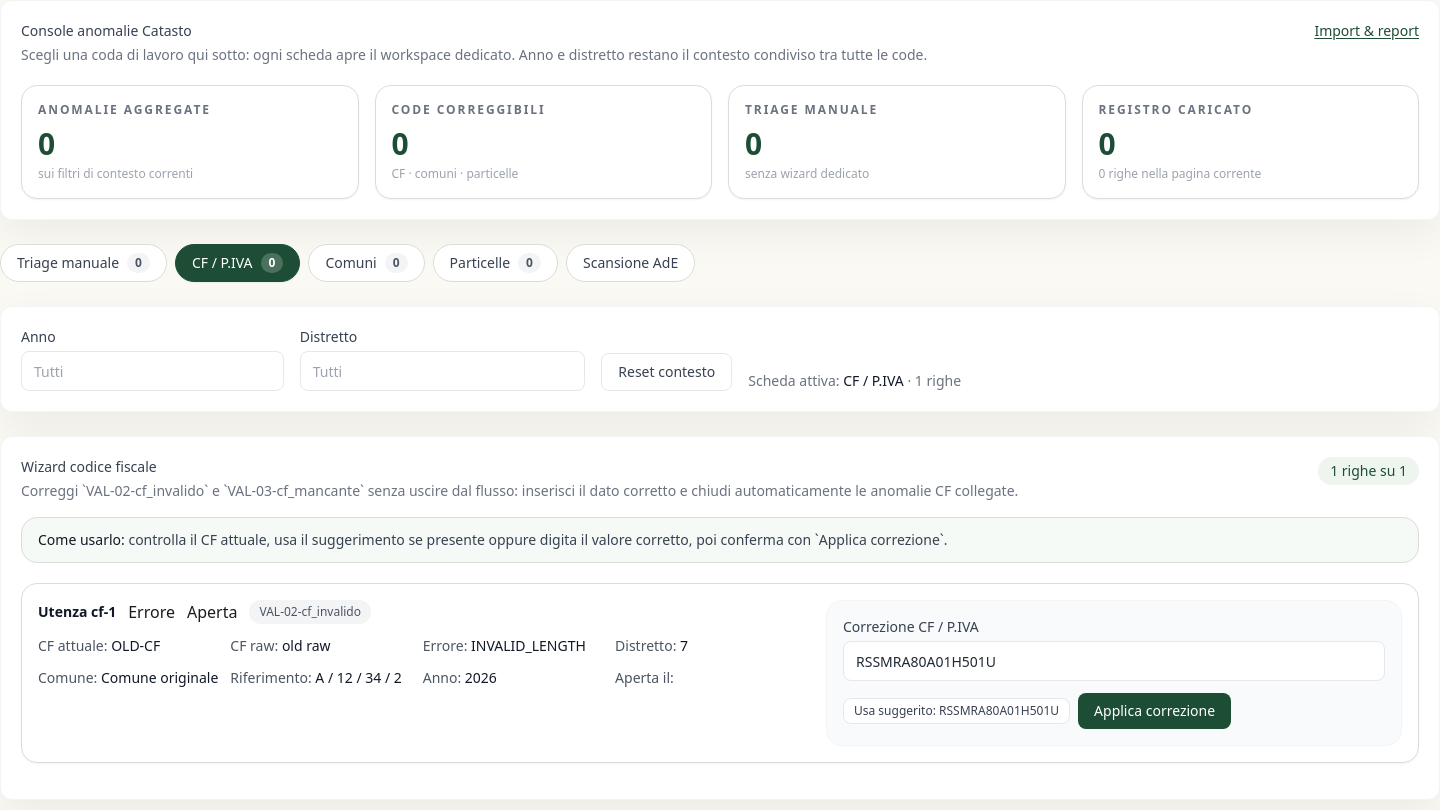
R17 original Catasto CF wizard public transitions › a CF reload error after successful apply leaves both the success and reload error visible
Check: the text "Utenza cf-1" is shown, box [38, 602, 116, 622]
Check: the button "Reset contesto" is enabled, box [601, 353, 732, 391]
Click the button "Applica correzione".
click(1155, 711)  # box [1078, 693, 1231, 729]
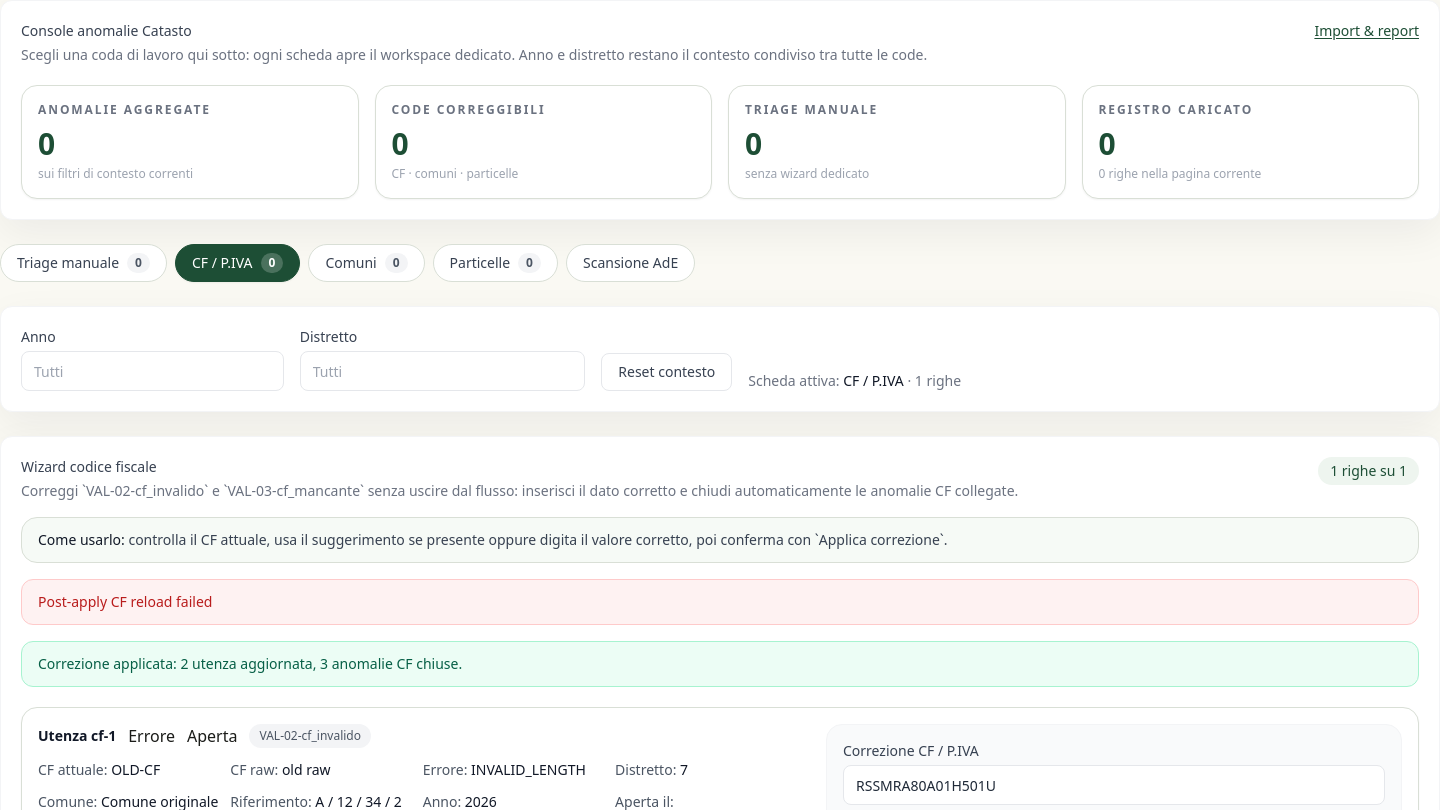
Check: the field labelled "Correzione CF / P.IVA" holds "RSSMRA80A01H501U", box [843, 765, 1385, 805]
Check: the text "Post-apply CF reload failed" is shown, box [21, 579, 1419, 625]
Check: the text "Correzione applicata: 2 utenza aggiornata, 3 anomalie CF chiuse." is shown, box [21, 641, 1419, 687]
